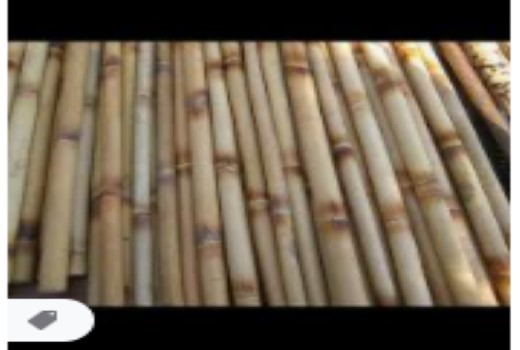baston_e: (355, 45, 479, 300), (389, 39, 506, 261), (328, 48, 424, 302), (275, 43, 365, 297), (308, 50, 392, 288), (255, 45, 322, 296), (411, 40, 508, 211), (199, 45, 263, 303), (237, 47, 301, 292), (221, 47, 275, 295), (182, 44, 231, 312), (9, 50, 63, 262), (40, 42, 88, 259), (149, 46, 187, 311), (127, 41, 161, 284), (171, 45, 202, 295), (70, 48, 102, 264), (0, 45, 46, 189), (101, 44, 124, 295), (442, 46, 498, 133), (466, 42, 509, 91)
